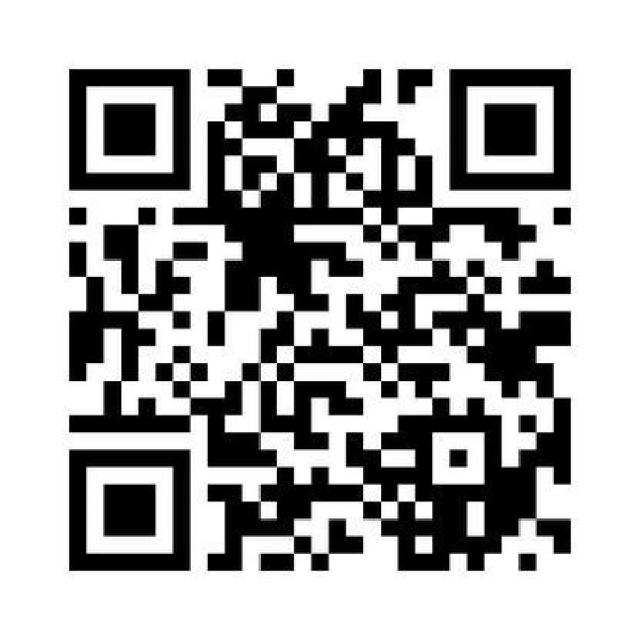QRCode: (58, 53, 580, 586)
